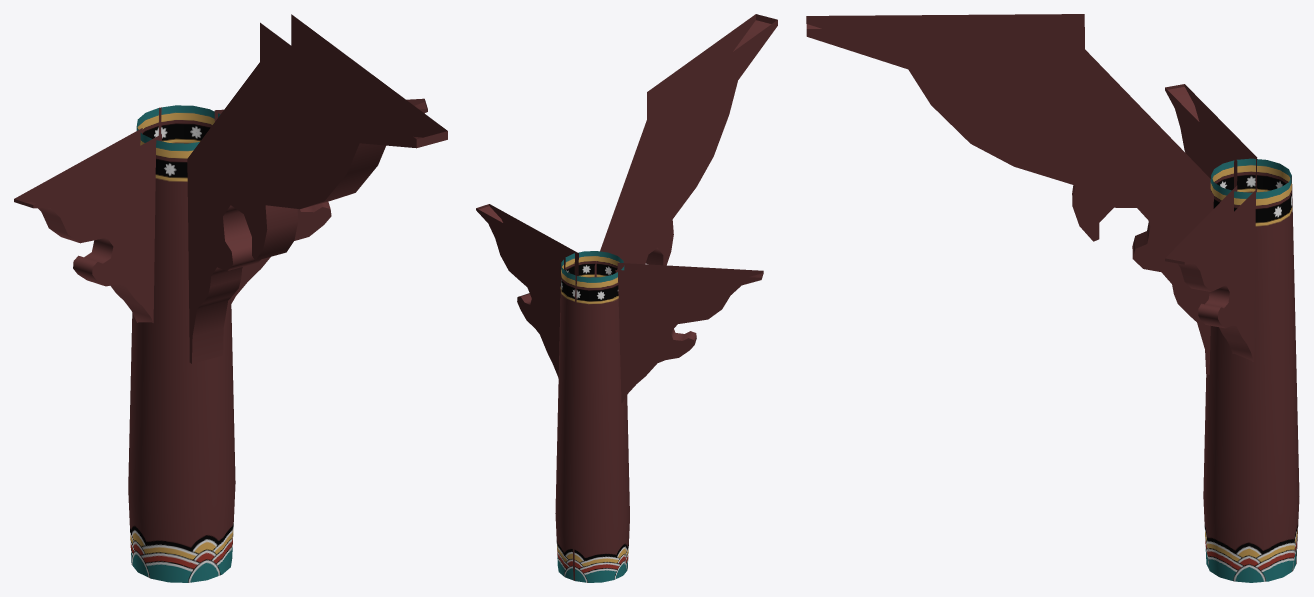
The model's file is living_room_column.fbx.
The picture shows the model from 3 angles, left to right: view 1: azimuth 30°, elevation 25°; view 2: azimuth 150°, elevation 25°; view 3: azimuth 270°, elevation 25°; orthographic projection. The views are drawn at different scales.
Visible parts, largest first — view 1: living_room_column; view 2: living_room_column; view 3: living_room_column.
Part boxes in pixels (box(x1,y1,x2,y2)): living_room_column: box(14, 14, 447, 582); living_room_column: box(476, 14, 777, 582); living_room_column: box(806, 14, 1299, 582).
Bounding box in the file's own units: 393 × 560 × 460.
